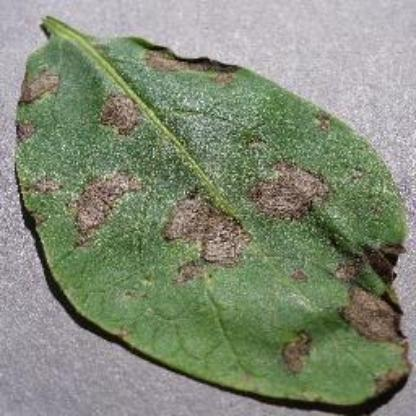Early-Blight: (15, 6, 416, 416)
